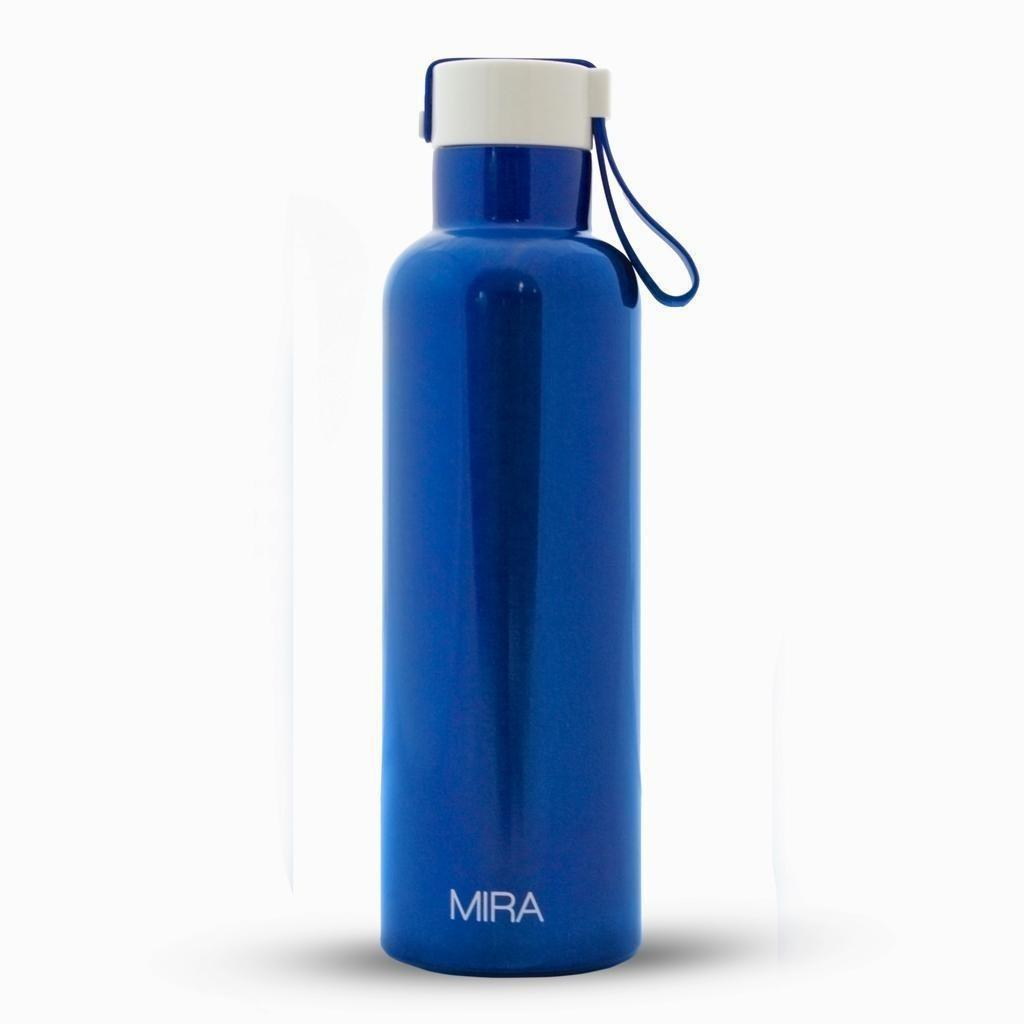gym bottle: (373, 52, 654, 984)
